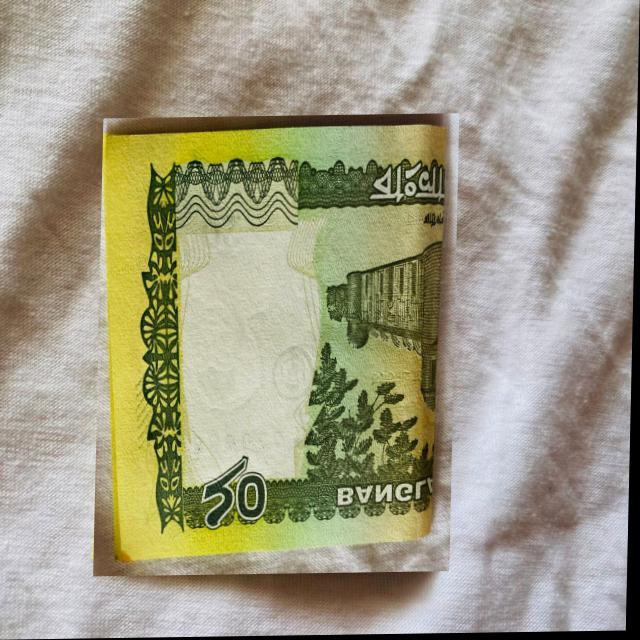Taka: (96, 115, 460, 577)
